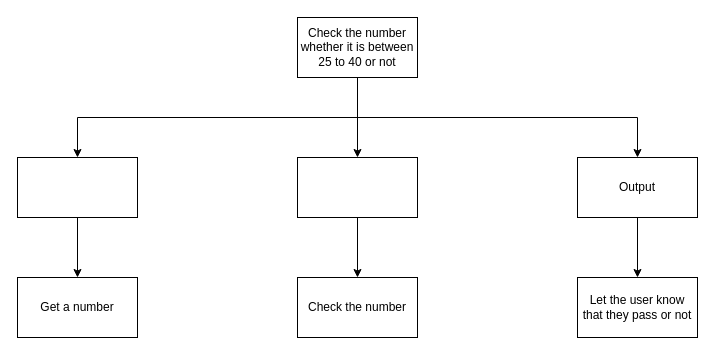
Image size: 715x355. Some labels were removed from this diagram. Here are the shapes that lost their labels. From the top down, the box of each, then its label:
(16, 156, 138, 218): Input
(296, 156, 418, 218): Process
